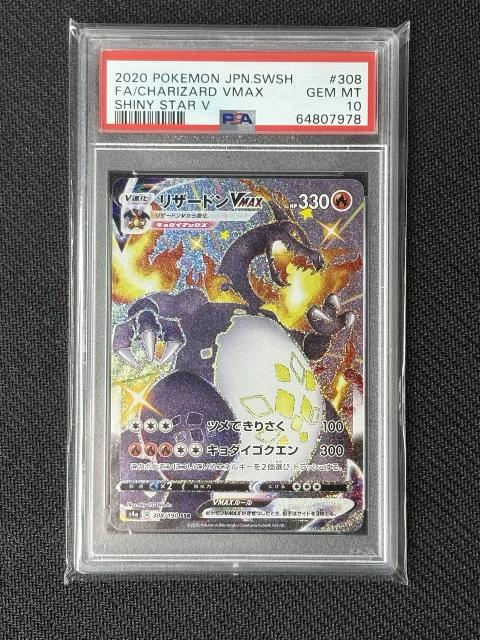Card: (107, 171, 370, 535)
Name: (153, 187, 267, 212)
